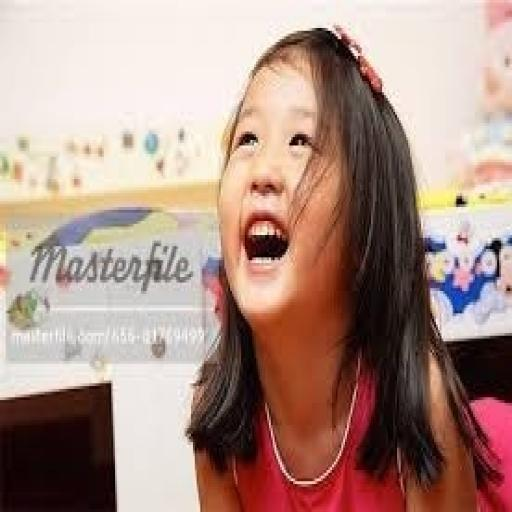laughing: (178, 20, 505, 509)
